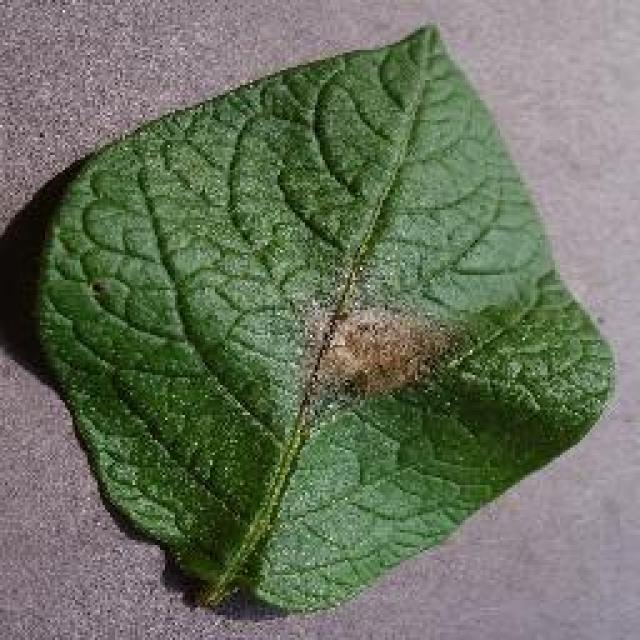Potato: (32, 20, 618, 615)
